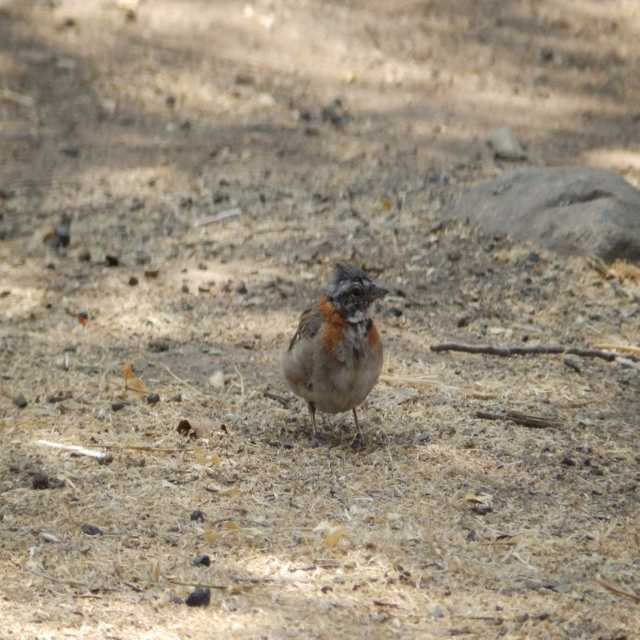Sparrow: (280, 257, 390, 449)
